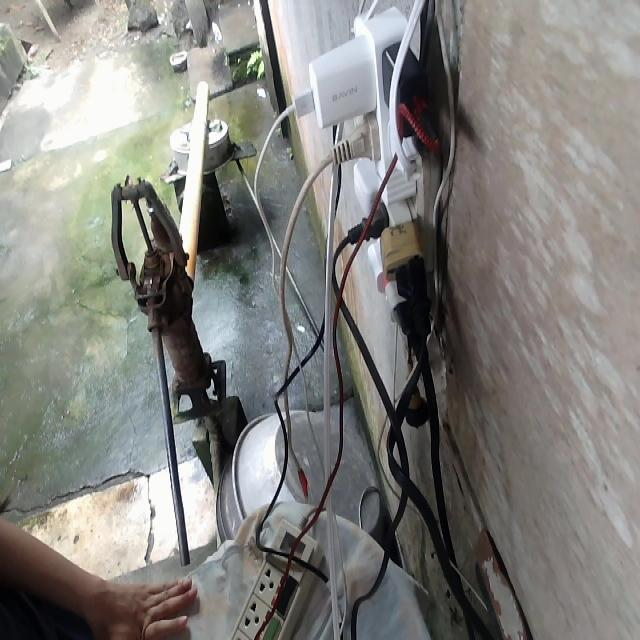-: (299, 3, 443, 336)
